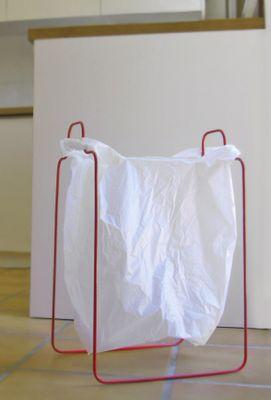LDPE: (50, 122, 251, 363)
